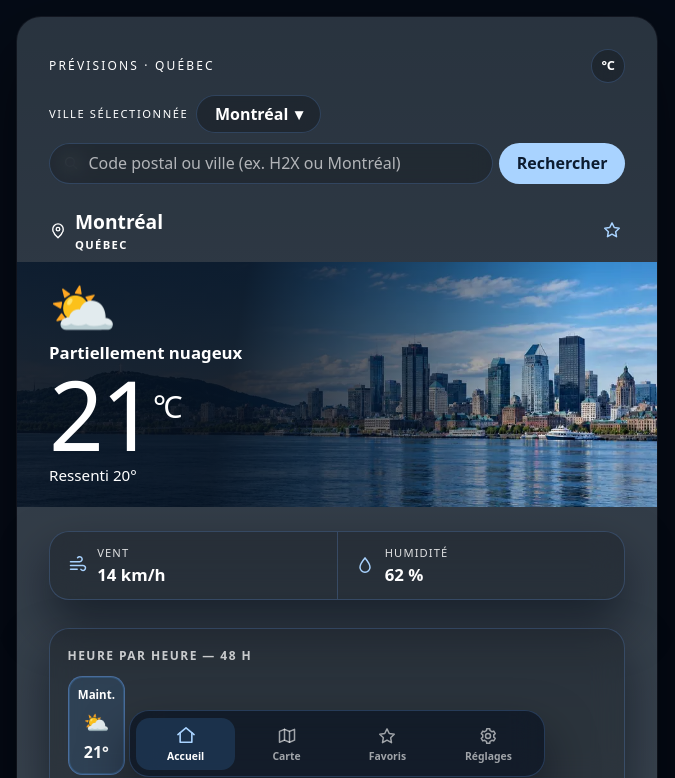
App — une erreur ne doit pas effacer les données affichées › n’annonce pas une ville dont il affiche les prévisions d’une autre
The image size is (675, 778).
Click the button with aria-label "Choisir une ville" at [259, 114], box 196,95 -> 321,133
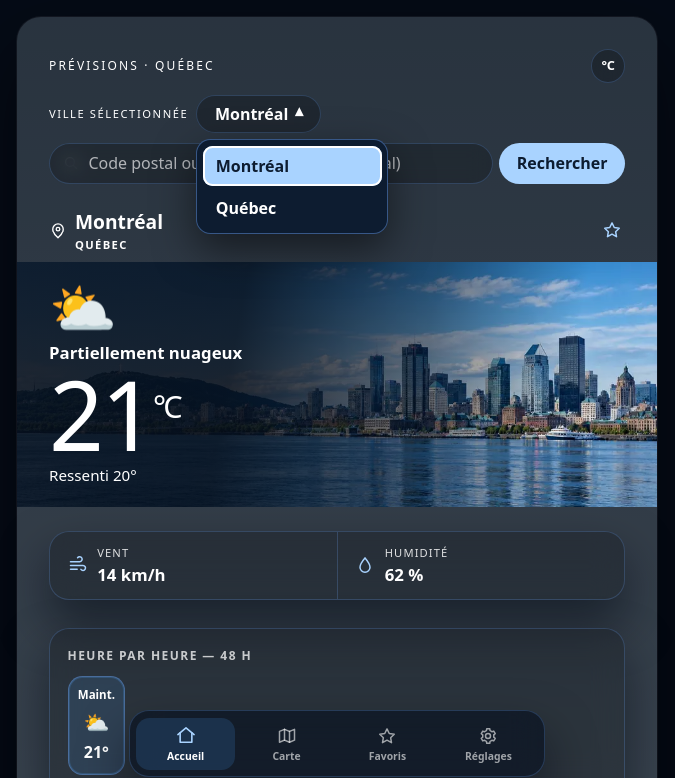
Click the menu item "Québec" at [292, 208], box 203,188 -> 382,228
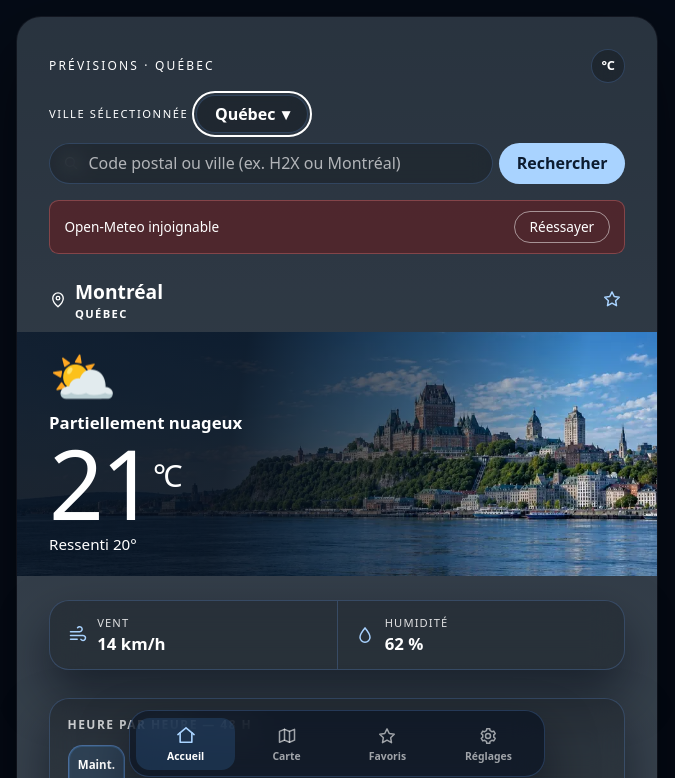
Expected: the text with class "lieu" reads "Montréal", 75,278 -> 163,304
Now the text "Open-Meteo injoignable" is shown, box 64,217 -> 219,236
